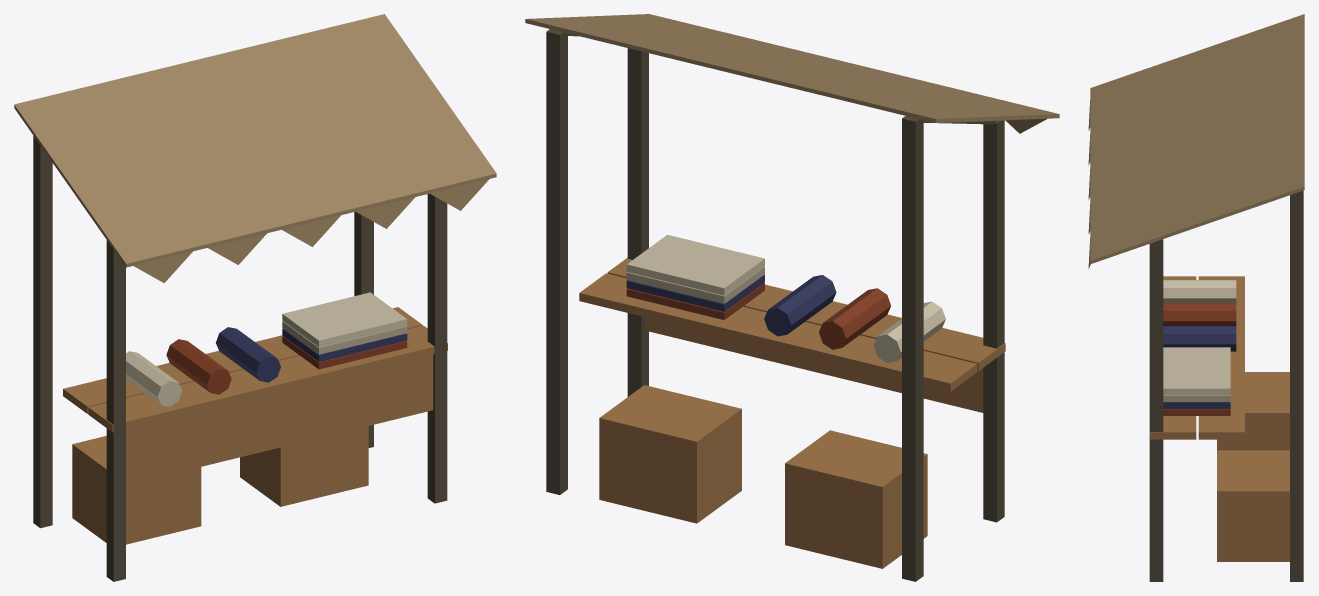
The model's file is MarketStallCloth.fbx.
3 renders of one model, left to right at view 1: azimuth 30°, elevation 25°; view 2: azimuth 150°, elevation 25°; view 3: azimuth 270°, elevation 25°, orthographic. The views are drawn at different scales.
Parts seen in each view (by area): view 1: MarketStallCloth; view 2: MarketStallCloth; view 3: MarketStallCloth.
Boxes of the visible parts, box(x1,y1,x2,y2) form: MarketStallCloth: box(14, 14, 496, 581); MarketStallCloth: box(525, 14, 1059, 581); MarketStallCloth: box(1088, 14, 1304, 581).
Size of the model in its own units: 2.1 by 2.29 by 1.11.
